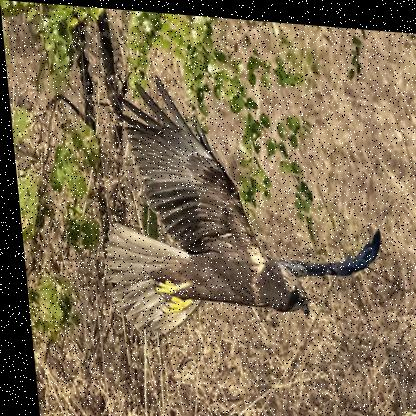Burung: (86, 69, 384, 349)
